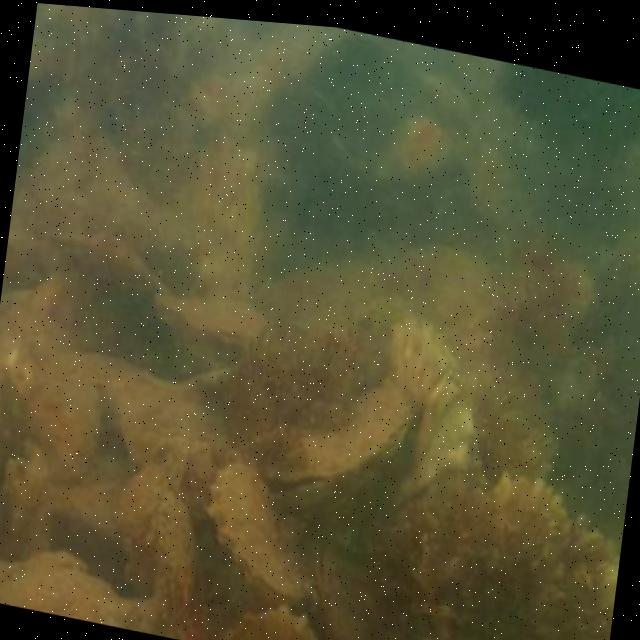Oyster-Closed: (266, 389, 411, 509)
Oyster-Indeterminate: (376, 323, 483, 516), (214, 464, 309, 604), (186, 134, 259, 308), (24, 353, 102, 480), (53, 231, 167, 302), (112, 436, 181, 548), (315, 539, 381, 640), (0, 452, 55, 563), (150, 497, 197, 626), (152, 297, 271, 344), (225, 608, 313, 640)
